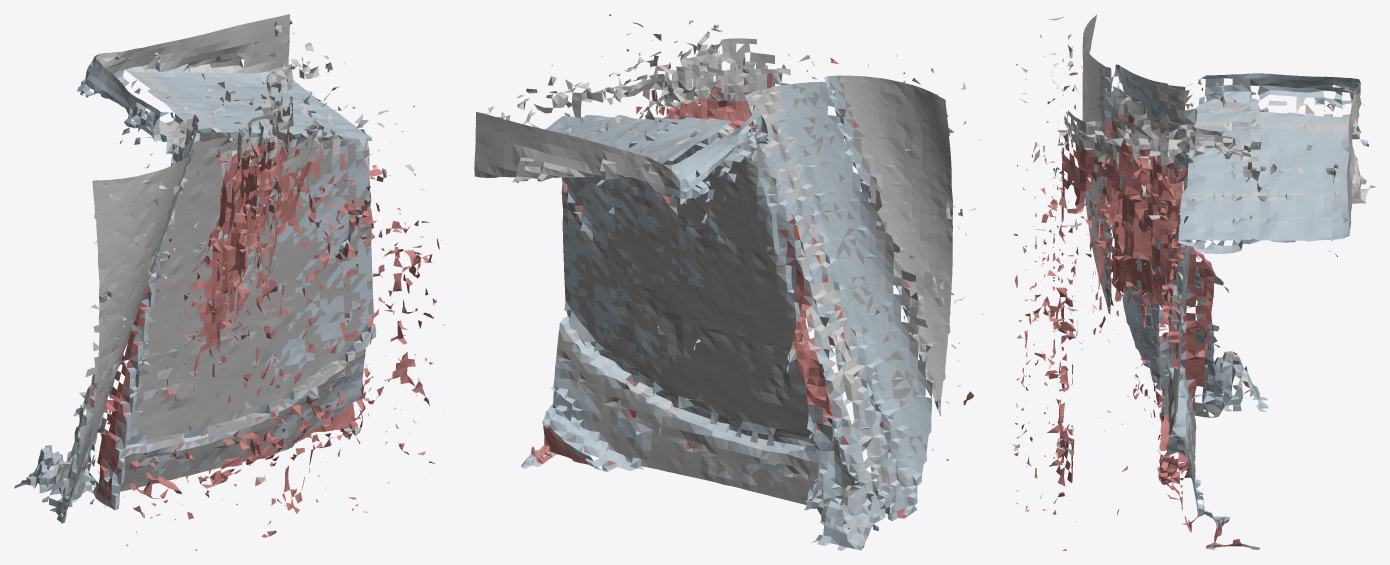
The model's file is R1-뜬면-1__lt_dynnow_ALS_s0__before.glb.
3 renders of one model, left to right at view 1: azimuth 30°, elevation 25°; view 2: azimuth 150°, elevation 25°; view 3: azimuth 270°, elevation 25°, orthographic. The views are drawn at different scales.
Size of the model in its own units: 33.43 by 36.46 by 31.79.
